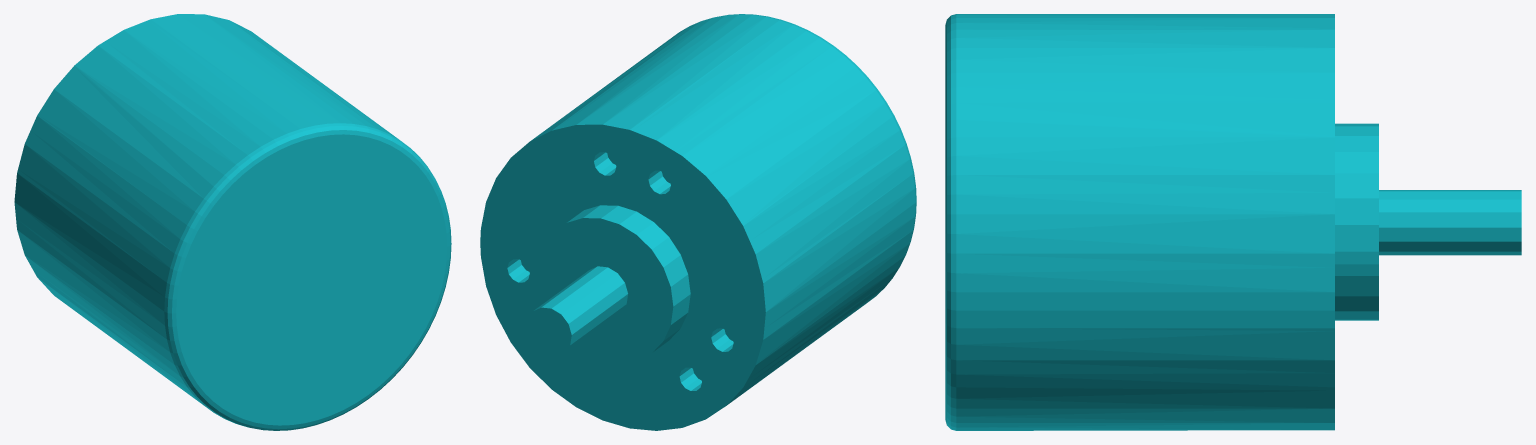
File: rotary_encoder_v1.dae
The picture shows the model from 3 angles, left to right: view 1: azimuth 30°, elevation 25°; view 2: azimuth 150°, elevation 25°; view 3: azimuth 270°, elevation 25°; orthographic projection. The views are drawn at different scales.
Parts seen in each view (by area): view 1: rotary_encoder; view 2: rotary_encoder; view 3: rotary_encoder.
Boxes of the visible parts, box(x1,y1,x2,y2) form: rotary_encoder: box(14, 14, 451, 430); rotary_encoder: box(480, 14, 916, 430); rotary_encoder: box(945, 14, 1521, 430).
Bounding box in the file's own units: 0.038 × 0.0525 × 0.038.
